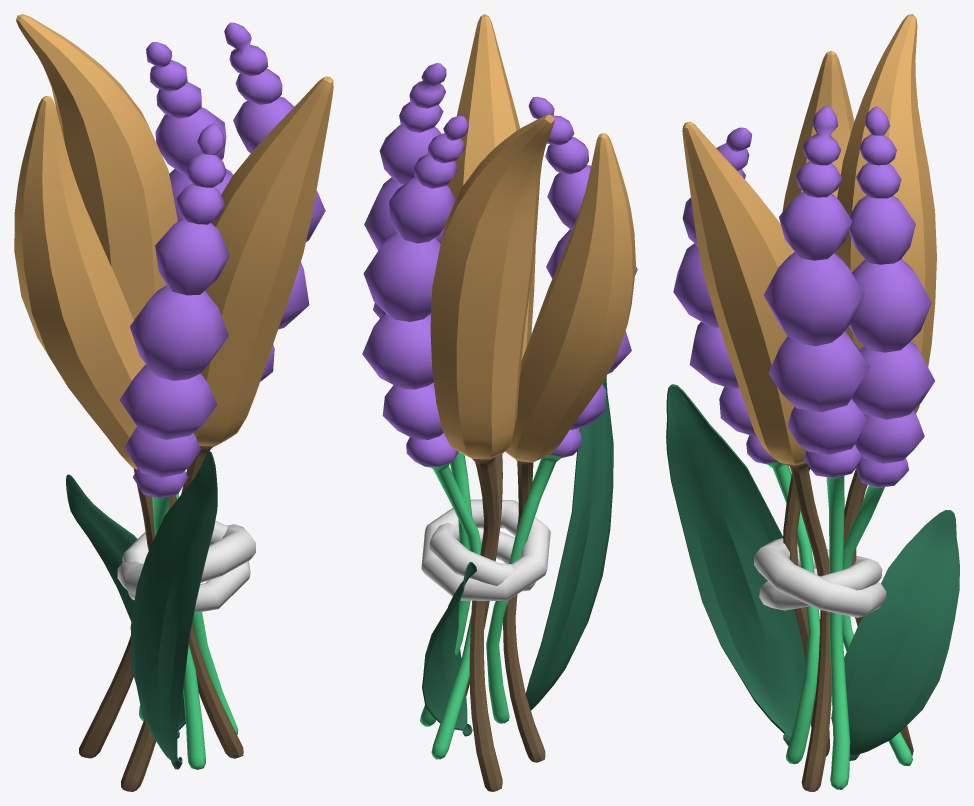
Rendered from Herbs.fbx.
3 views of the same model, side by side, from view 1: azimuth 30°, elevation 25°; view 2: azimuth 150°, elevation 25°; view 3: azimuth 270°, elevation 25° (orthographic). The views are drawn at different scales.
Parts seen in each view (by area): view 1: Herbs, Plane.014, Plane.013; view 2: Herbs, Plane.014, Plane.013; view 3: Herbs, Plane.014, Plane.013.
Part boxes in pixels (box(x1,y1,x2,y2)): Herbs: box(14, 14, 333, 791); Plane.014: box(130, 451, 217, 769); Plane.013: box(66, 474, 185, 738); Herbs: box(362, 14, 637, 791); Plane.014: box(525, 376, 613, 710); Plane.013: box(422, 562, 476, 736); Herbs: box(673, 14, 936, 791); Plane.014: box(666, 384, 805, 745); Plane.013: box(831, 510, 959, 760).
Bounding box in the file's own units: 40.56 × 101 × 37.69.
